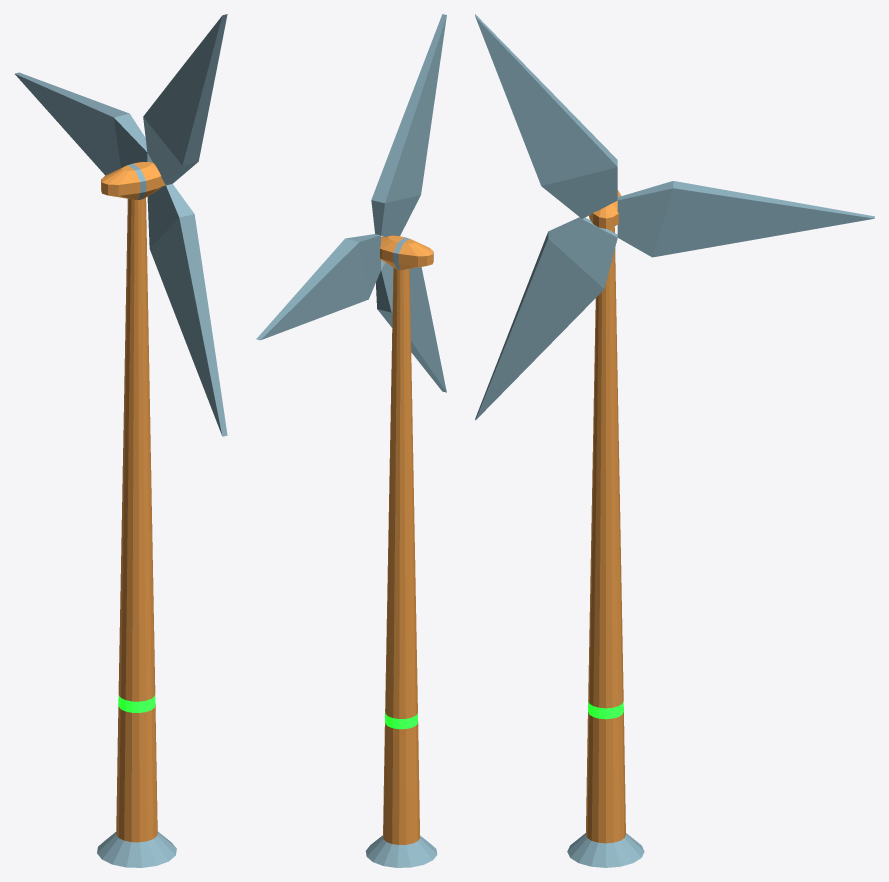
File: eolienne_final.glb
3 renders of one model, left to right at view 1: azimuth 30°, elevation 25°; view 2: azimuth 150°, elevation 25°; view 3: azimuth 270°, elevation 25°, orthographic. The views are drawn at different scales.
Parts seen in each view (by area): view 1: Cylinder, eliceanim, Light; view 2: Cylinder, eliceanim; view 3: eliceanim, Cylinder.
Boxes of the visible parts, x1,y1,x2,y2 form: Cylinder: (97,162,176,867); eliceanim: (15,14,227,436); Light: (118,694,155,712); Cylinder: (366,235,437,867); eliceanim: (256,14,446,392); eliceanim: (475,14,874,420); Cylinder: (567,190,644,867).
Size of the model in its own units: 1.76 by 21.15 by 9.06.
